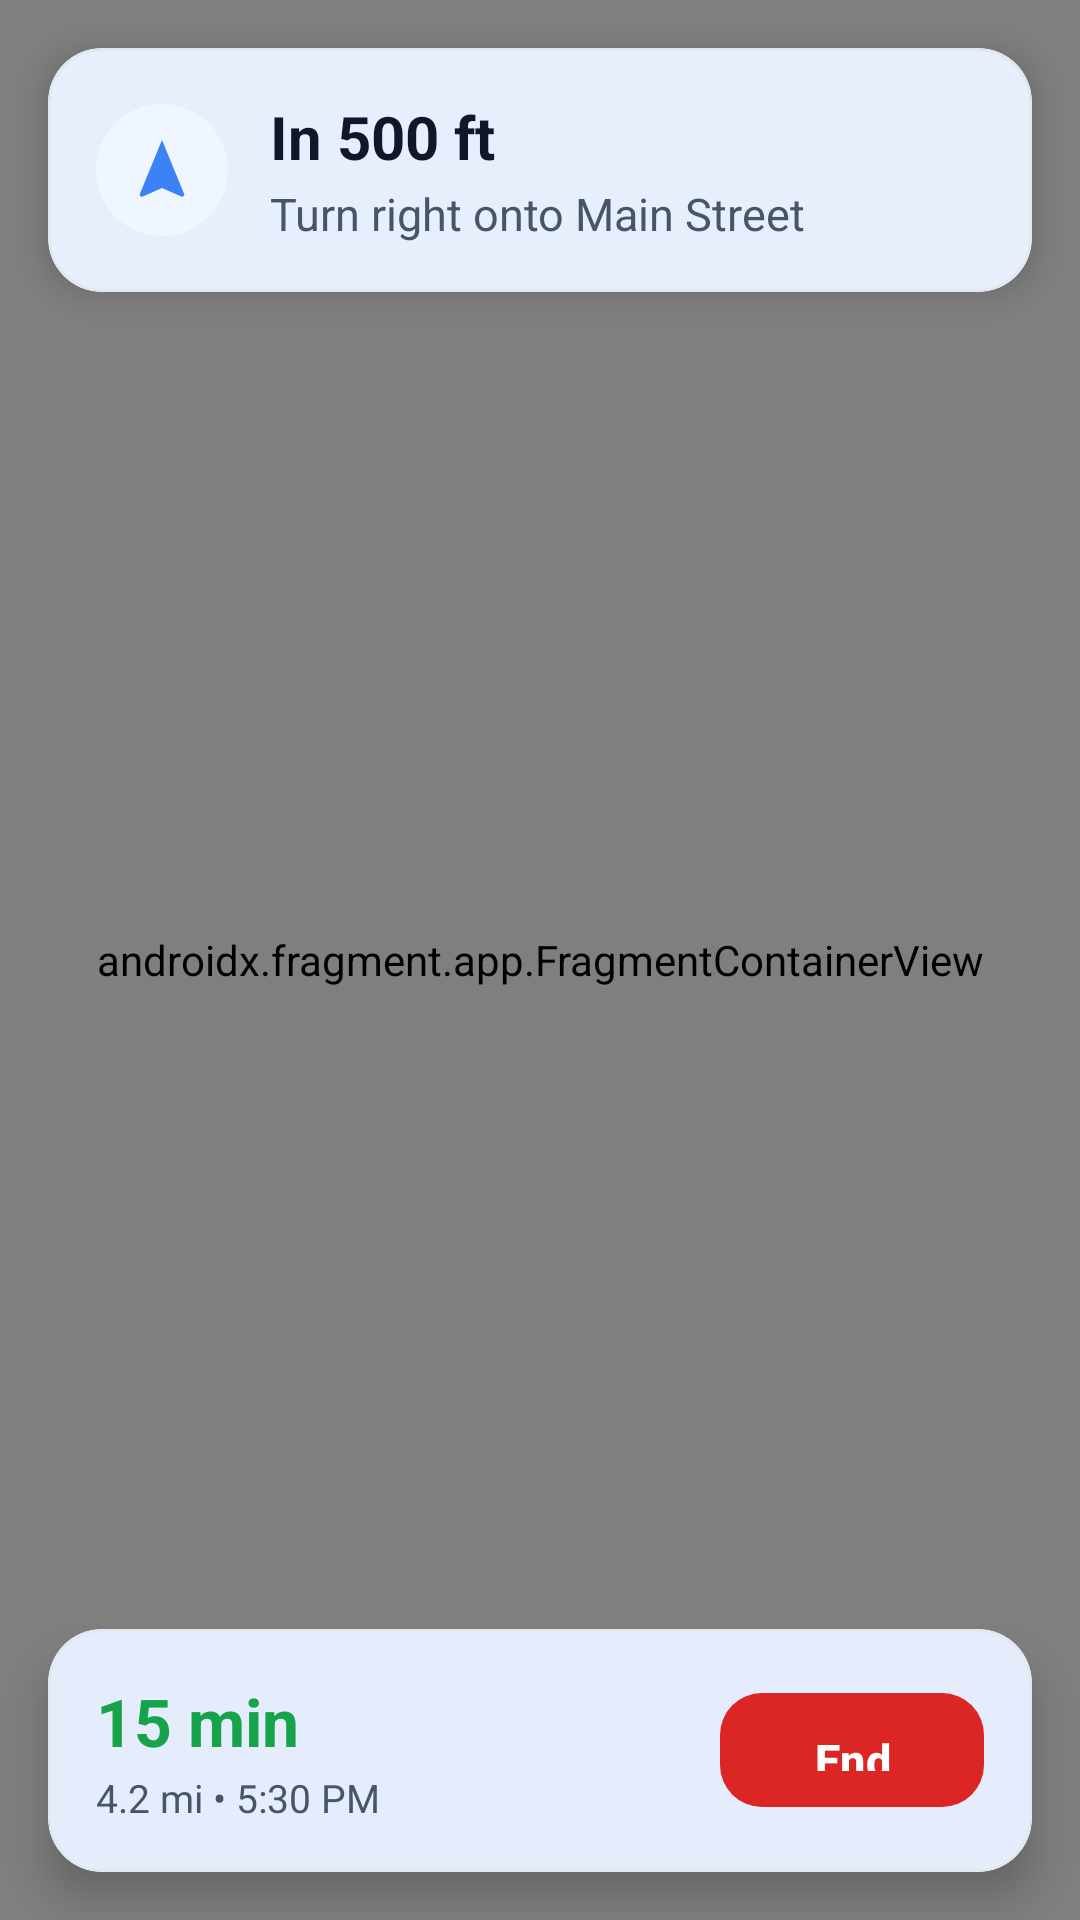

Icons on this 1080 x 1920 Android screen, each with the point to tap as (x=x, y=y):
navigation: (x=162, y=168)
